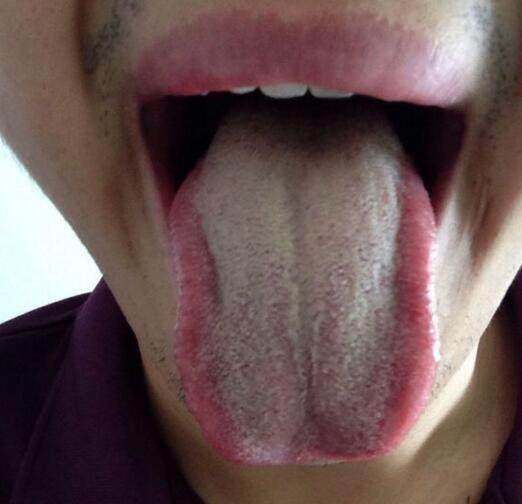baitaishe: (167, 119, 443, 466)
